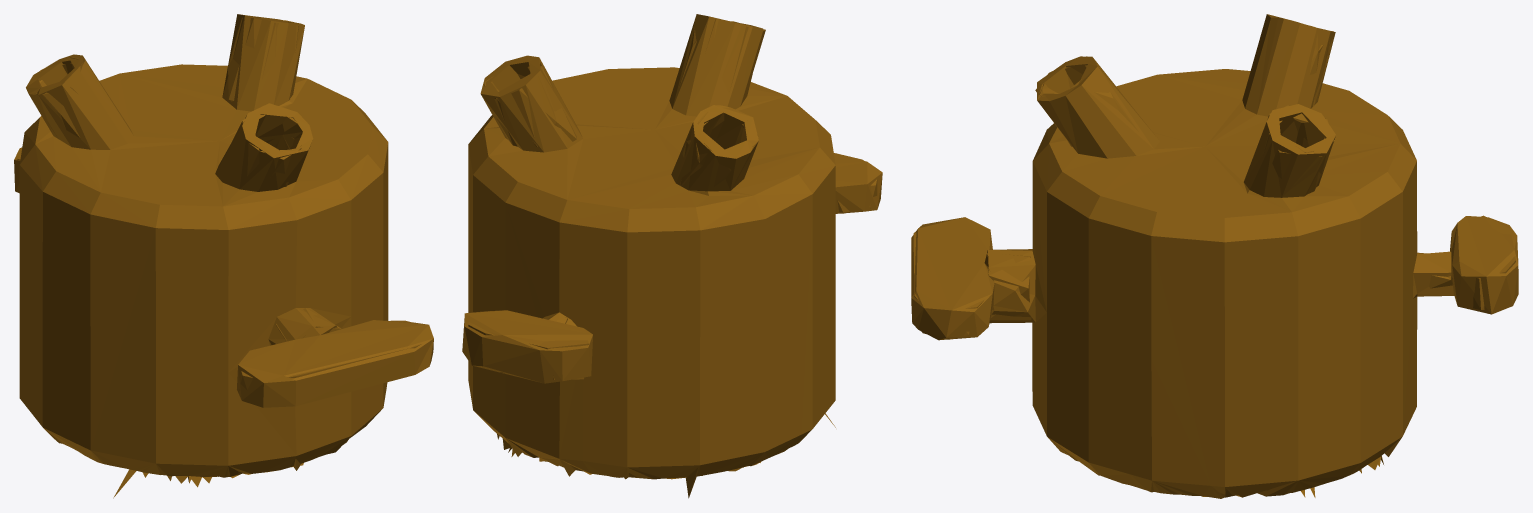
The model's file is music-box-emitter.glb.
3 renders of one model, left to right at view 1: azimuth 30°, elevation 25°; view 2: azimuth 150°, elevation 25°; view 3: azimuth 270°, elevation 25°, orthographic. The views are drawn at different scales.
Parts seen in each view (by area): view 1: world; view 2: world; view 3: world.
Boxes of the visible parts, x1=… form: world: x1=14, y1=14, x2=433, y2=498; world: x1=462, y1=14, x2=882, y2=498; world: x1=911, y1=14, x2=1518, y2=498.
Bounding box in the file's own units: 1.09 × 1.2 × 1.72.
1 material, 1 textured.
